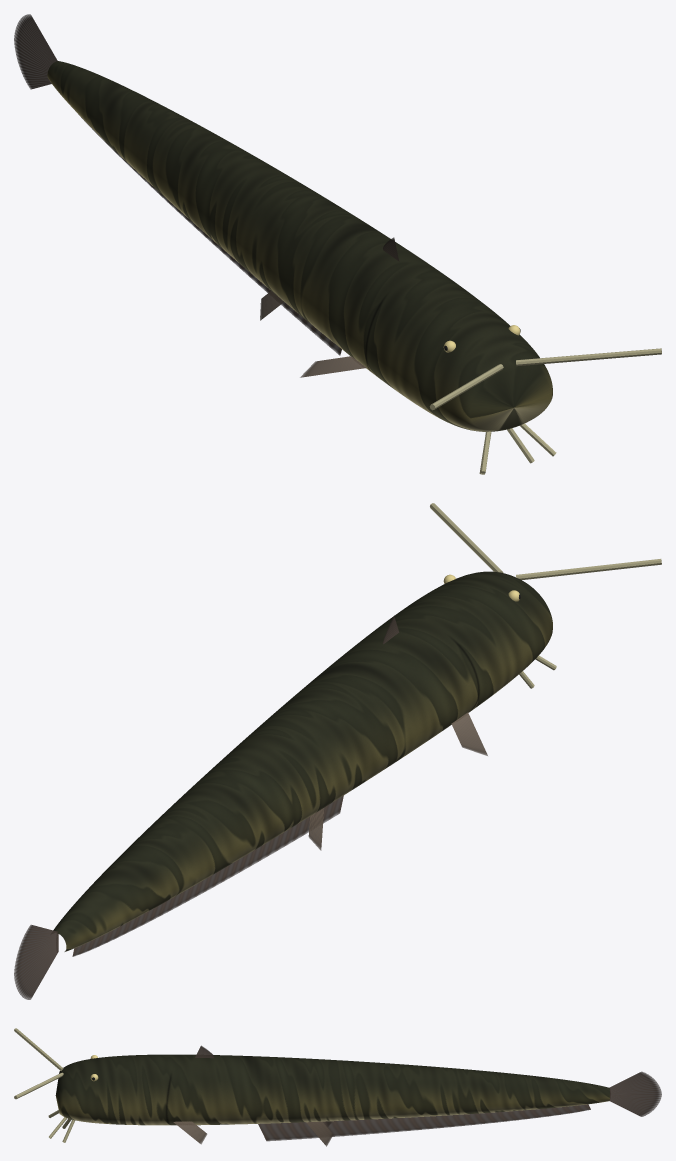
File: som.glb
The picture shows the model from 3 angles, top to bottom: view 1: azimuth 30°, elevation 25°; view 2: azimuth 150°, elevation 25°; view 3: azimuth 270°, elevation 25°; orthographic projection. The views are drawn at different scales.
Parts seen in each view (by area): view 1: body, fin_tail, fin_anal0, barbel0, fin_pect_R; view 2: body, fin_anal0, fin_tail, barbel1, fin_pect_R; view 3: body, fin_anal0, fin_tail, fin_pect_L, fin_pelv_L, barbel1, barbel0.
Part boxes in pixels (bbox=[...]): body: bbox=[47, 61, 552, 431]; fin_tail: bbox=[14, 14, 57, 89]; fin_anal0: bbox=[78, 114, 341, 355]; barbel0: bbox=[516, 348, 661, 366]; fin_pect_R: bbox=[300, 356, 366, 377]; body: bbox=[53, 571, 552, 951]; fin_anal0: bbox=[72, 795, 343, 956]; fin_tail: bbox=[14, 924, 58, 999]; barbel1: bbox=[516, 559, 661, 579]; fin_pect_R: bbox=[451, 712, 487, 755]; body: bbox=[55, 1054, 609, 1125]; fin_anal0: bbox=[258, 1104, 590, 1141]; fin_tail: bbox=[609, 1071, 661, 1116]; fin_pect_L: bbox=[173, 1121, 207, 1144]; fin_pelv_L: bbox=[306, 1121, 333, 1146]; barbel1: bbox=[14, 1028, 63, 1070]; barbel0: bbox=[14, 1072, 63, 1099].
Bounding box in the file's own units: 0.3759 × 0.2453 × 1.5.
Materials: 6 (3 with a texture image).
